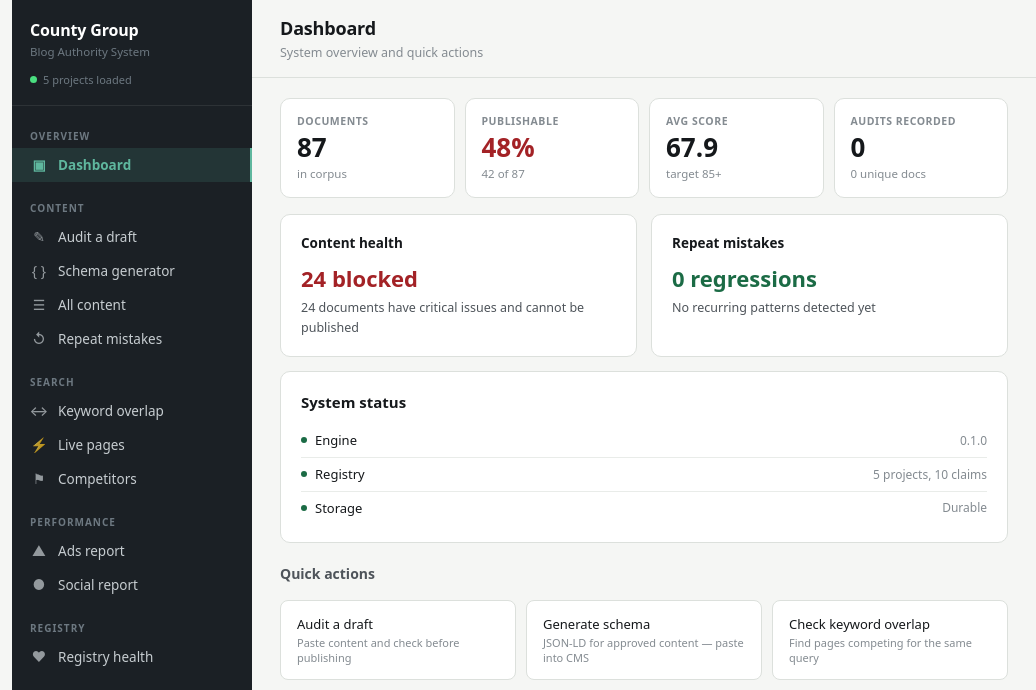
Test: audit flow › enables the button once content is typed
Step 1. Click the tab "✎ Audit a draft" → (132, 237), box [12,220,252,254]
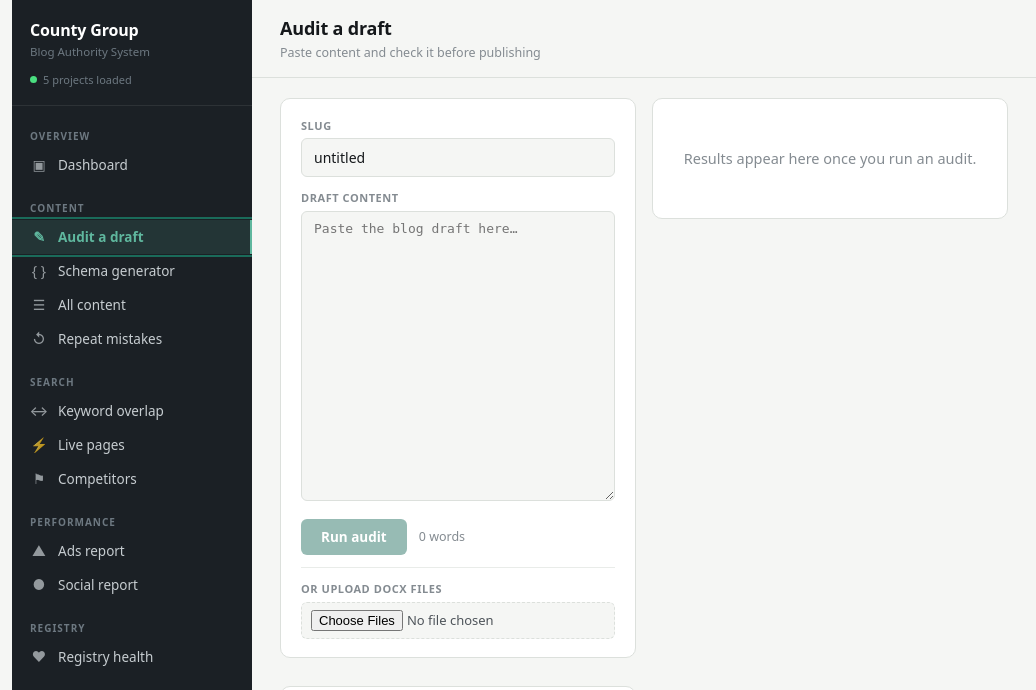
Step 2. Type "Some copy" into the text box labelled "Draft content" → (458, 356), box [301,211,615,501]
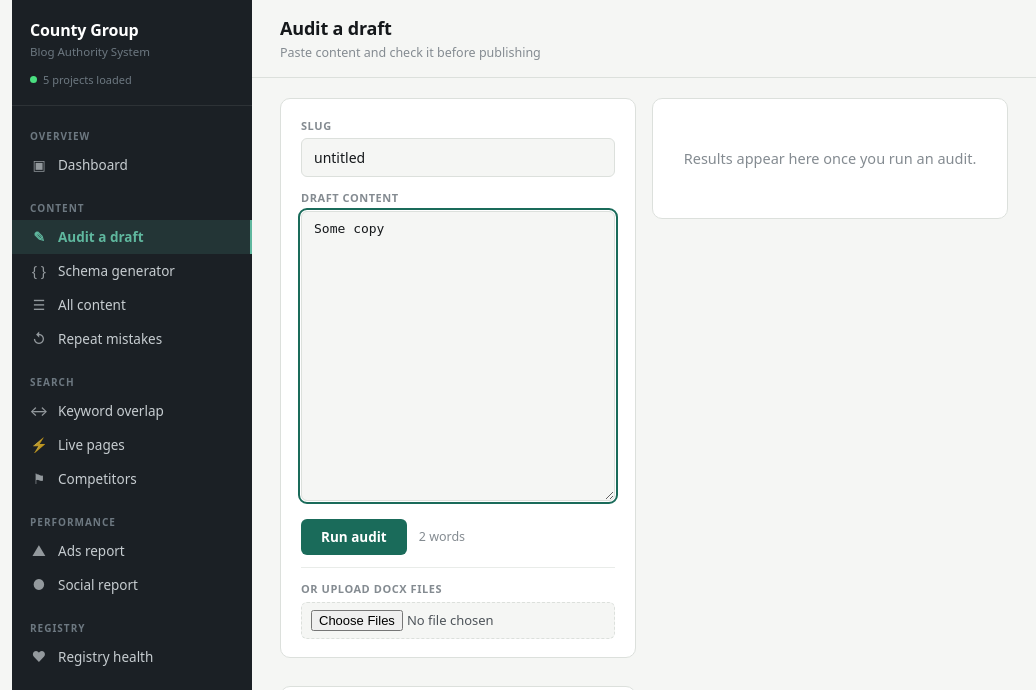
Now the button "Run audit" is enabled, box [301,519,407,555]
